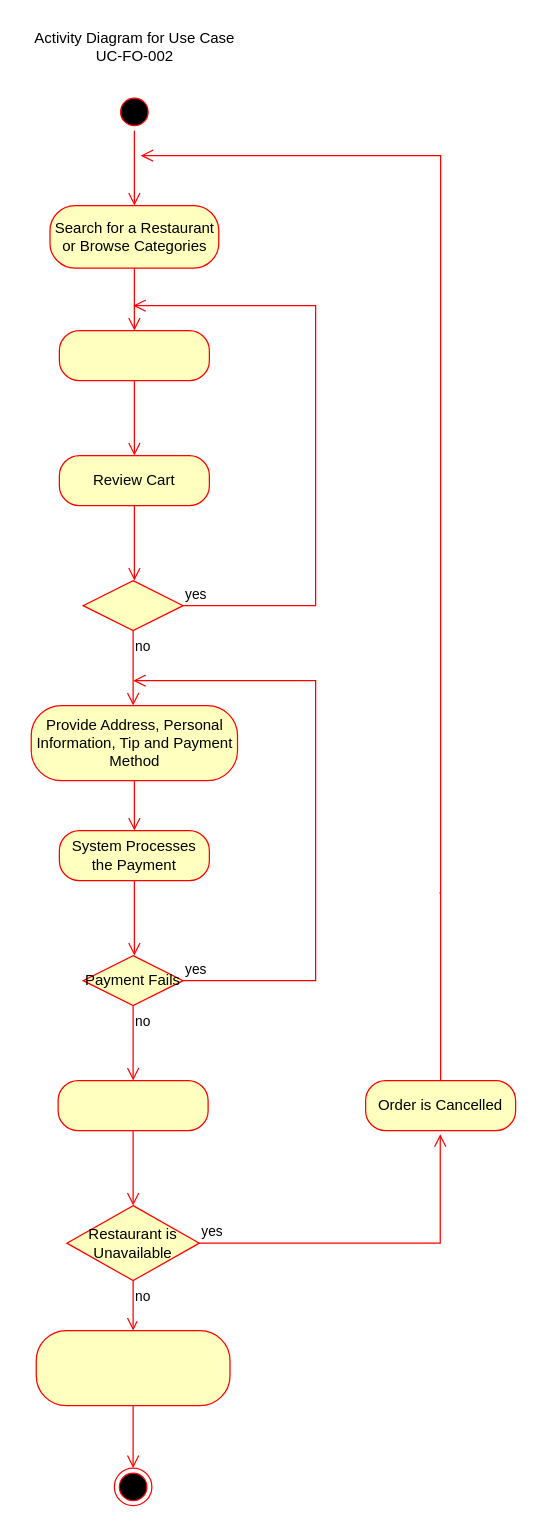
Some shapes in this 538 by 1528 pixel diagram are drawn without their labels. The shapes that lost their labels are listed below. From the top down, each one's box as (x1, y1, x2, y2) in pixels, then its label:
(58, 329, 209, 381): Select Food Items and Add to Cart
(82, 579, 183, 631): Cart is Empty
(57, 1079, 208, 1131): Order is Confirmed
(35, 1329, 230, 1406): Estimated Delivery Time is Shown and Order is Sent to the Restaurant
